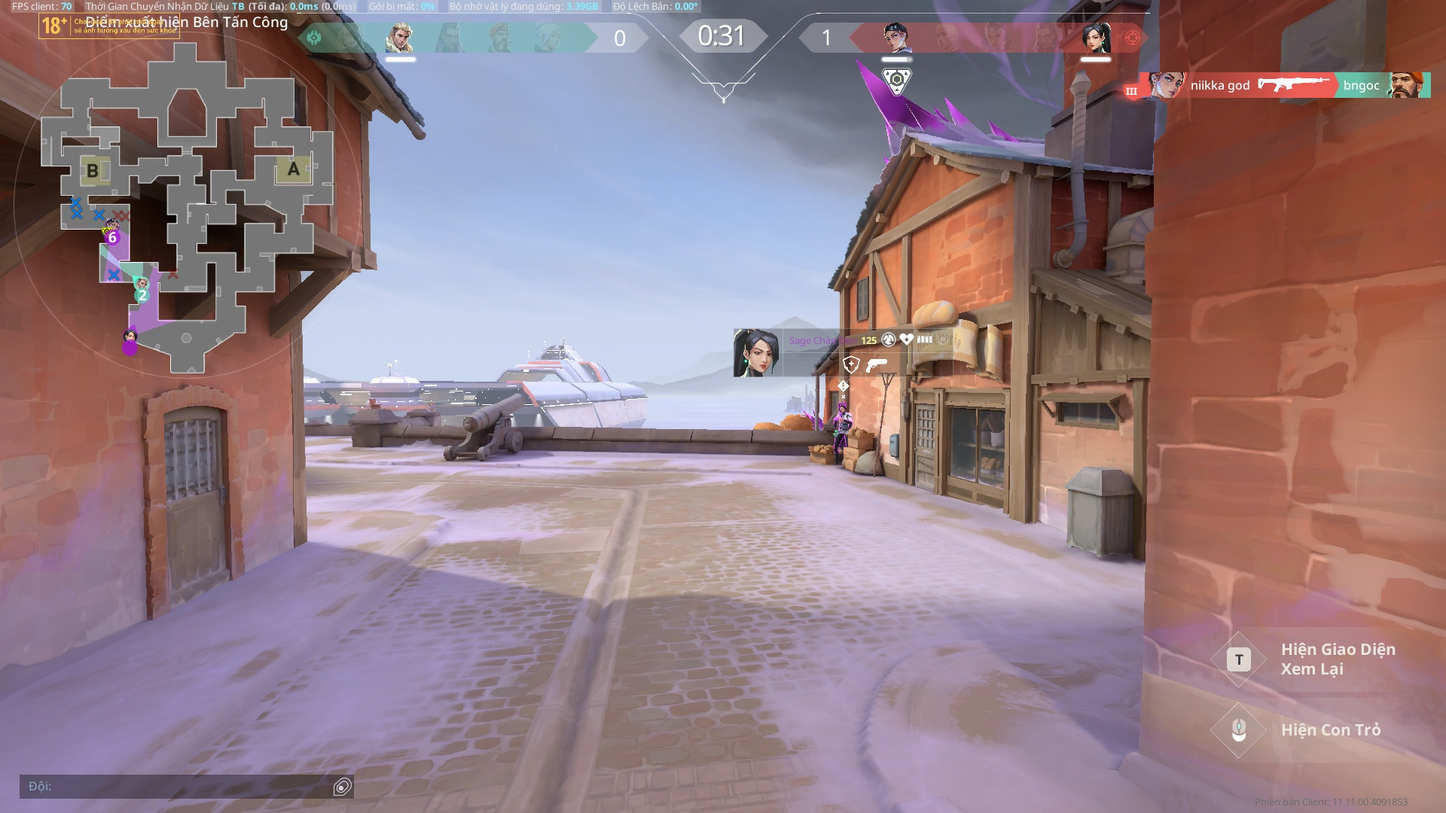body: (836, 410, 852, 431)
head: (838, 400, 849, 414)
